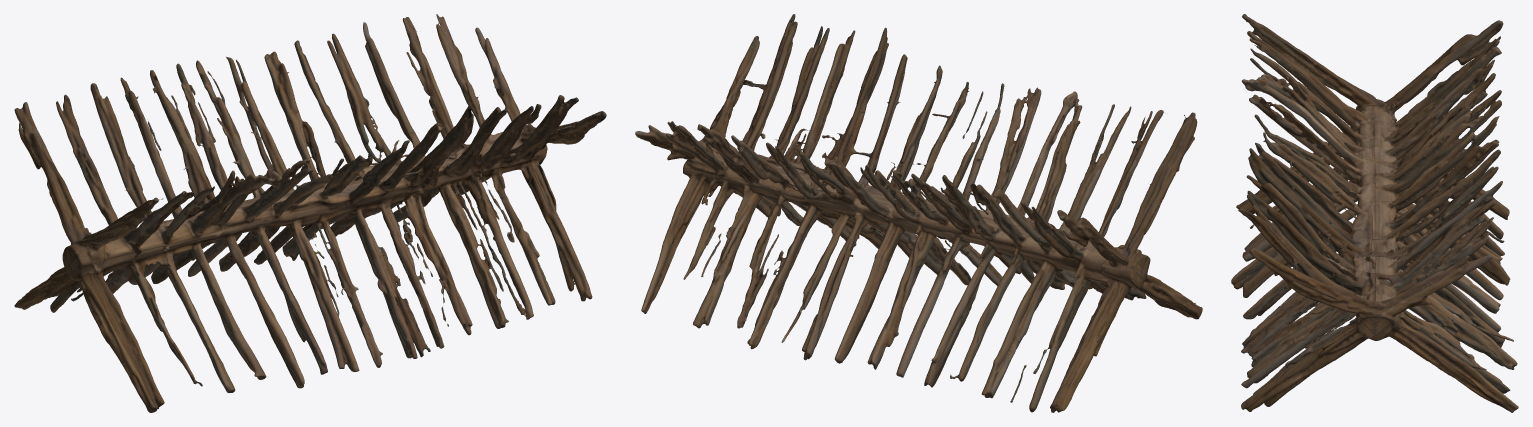
Rendered from barrikade_original.glb.
The picture shows the model from 3 angles, left to right: view 1: azimuth 30°, elevation 25°; view 2: azimuth 150°, elevation 25°; view 3: azimuth 270°, elevation 25°; orthographic projection. The views are drawn at different scales.
Size of the model in its own units: 1.99 by 0.9899 by 1.11.
Materials: 1 (1 with a texture image).
